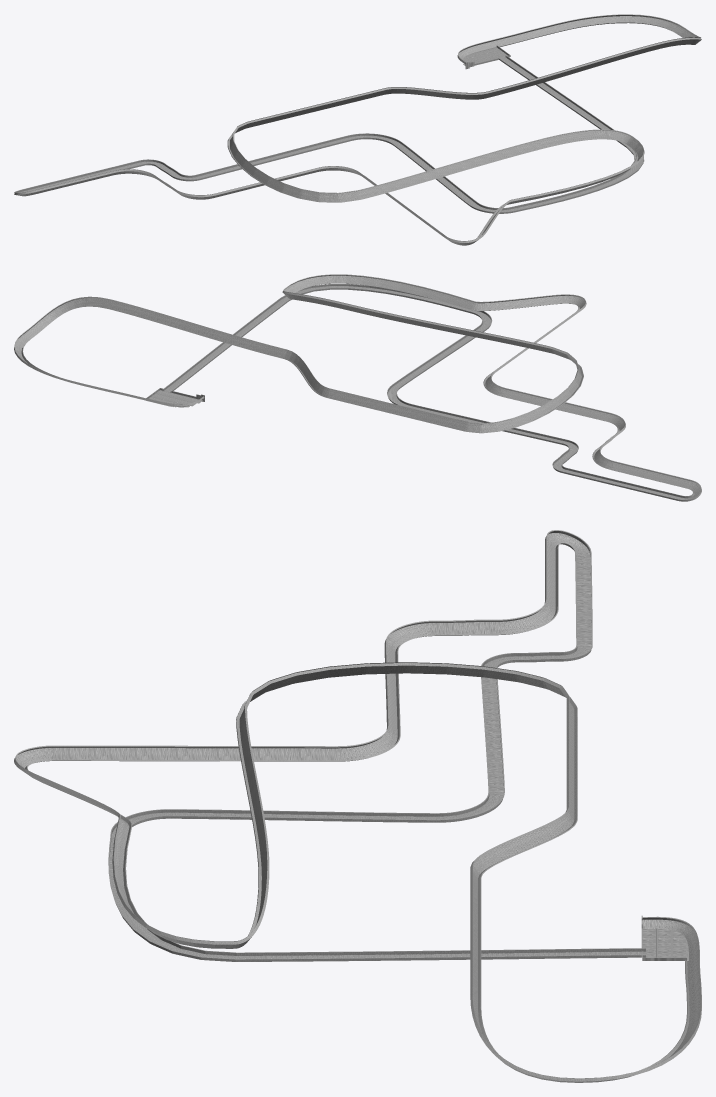
Rendered from RacetrackONLY.obj.
3 renders of one model, top to bottom at view 1: azimuth 30°, elevation 25°; view 2: azimuth 150°, elevation 25°; view 3: azimuth 270°, elevation 25°, orthographic. The views are drawn at different scales.
Visible parts, largest first — view 1: Tracks, StartPlanes.001; view 2: Tracks, StartPlanes.001; view 3: Tracks, StartPlanes.001, Tracks.001.
Part boxes in pixels (box(x1,y1,x2,y2)): Tracks: box(14, 14, 701, 245); StartPlanes.001: box(463, 45, 510, 69); Tracks: box(14, 274, 701, 501); StartPlanes.001: box(146, 388, 204, 407); Tracks: box(14, 530, 701, 1082); StartPlanes.001: box(641, 915, 688, 960); Tracks.001: box(642, 916, 699, 960).
Size of the model in its own units: 26.44 by 1.11 by 14.14.
2 materials, 2 textured.
